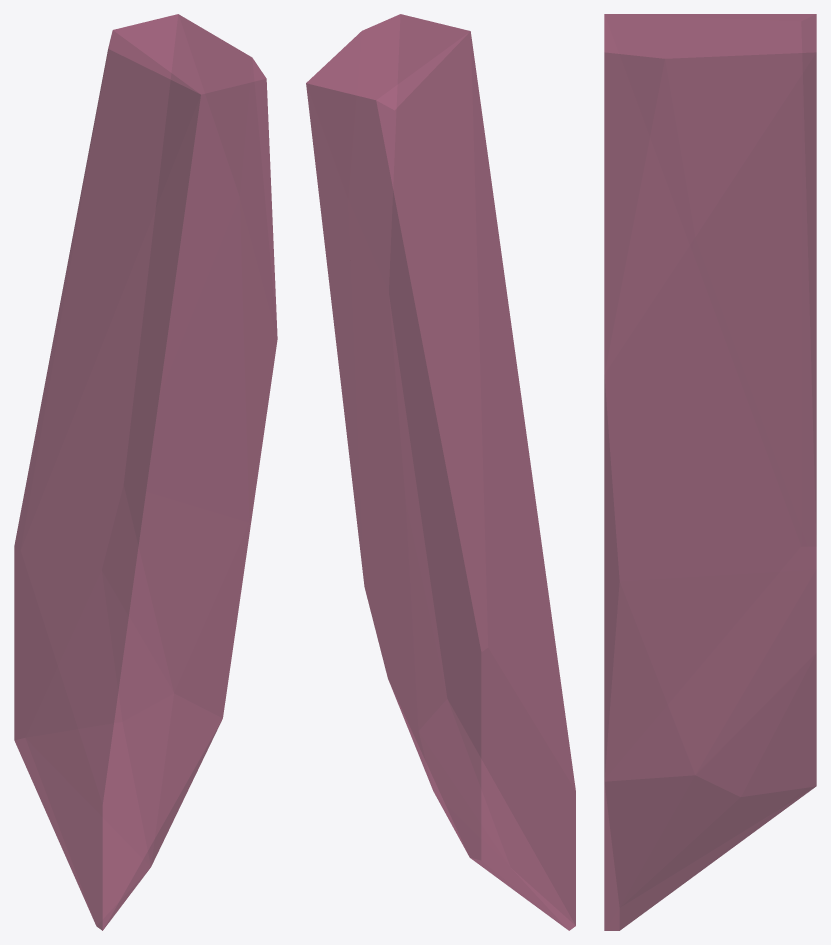
The picture shows the model from 3 angles, left to right: view 1: azimuth 30°, elevation 25°; view 2: azimuth 150°, elevation 25°; view 3: azimuth 270°, elevation 25°; orthographic projection. The views are drawn at different scales.
Visible parts, largest first — view 1: Shape_IndexedFaceSet.072_Shape_IndexedFaceSet.7823; view 2: Shape_IndexedFaceSet.072_Shape_IndexedFaceSet.7823; view 3: Shape_IndexedFaceSet.072_Shape_IndexedFaceSet.7823.
Boxes of the visible parts, x1,y1,x2,y2 form: Shape_IndexedFaceSet.072_Shape_IndexedFaceSet.7823: (14, 14, 277, 930); Shape_IndexedFaceSet.072_Shape_IndexedFaceSet.7823: (306, 14, 575, 930); Shape_IndexedFaceSet.072_Shape_IndexedFaceSet.7823: (604, 14, 816, 930).
Bounding box in the file's own units: 0.0218 × 0.0969 × 0.0191.
